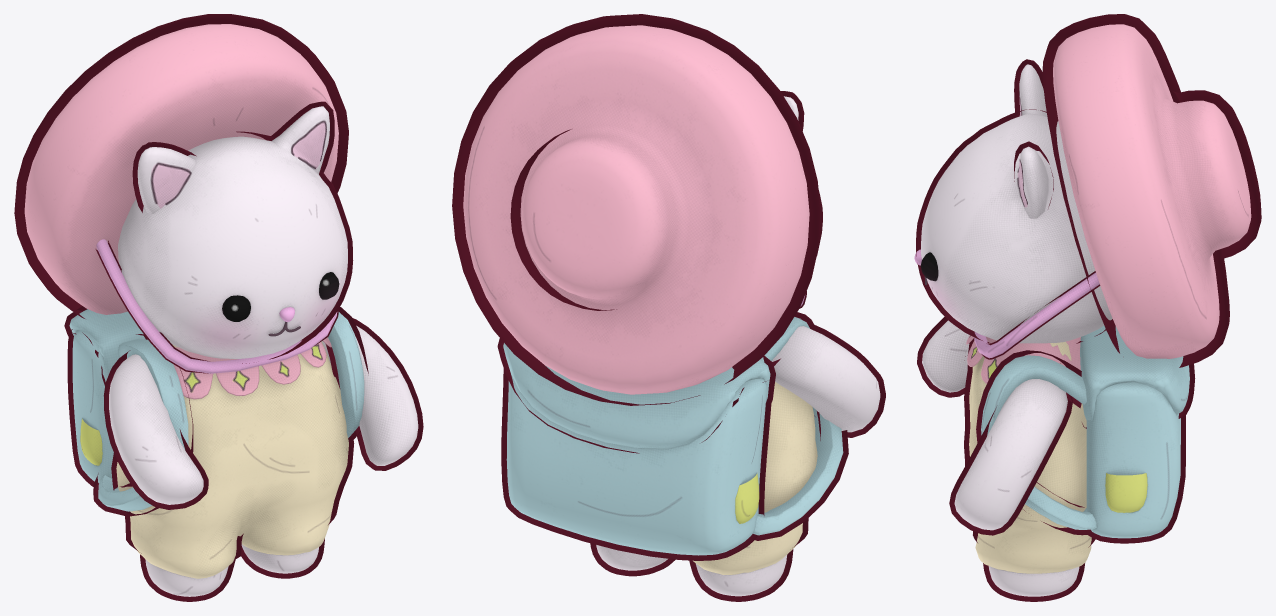
The model's file is sylvanian_persian_cat.glb.
3 views of the same model, side by side, from view 1: azimuth 30°, elevation 25°; view 2: azimuth 150°, elevation 25°; view 3: azimuth 270°, elevation 25° (orthographic). The views are drawn at different scales.
Visible parts, largest first — view 1: MSH_Ternurin, MSH_Outline, Object001_Mat_Outline_0; view 2: MSH_Ternurin, MSH_Outline; view 3: MSH_Ternurin, MSH_Outline, Object001_Mat_Outline_0.
Part boxes in pixels (<box>): MSH_Ternurin: <box>24,24,418,596</box>; MSH_Outline: <box>14,14,423,601</box>; Object001_Mat_Outline_0: <box>95,240,338,373</box>; MSH_Ternurin: <box>463,25,880,596</box>; MSH_Outline: <box>452,14,885,601</box>; MSH_Ternurin: <box>914,24,1251,596</box>; MSH_Outline: <box>916,14,1261,601</box>; Object001_Mat_Outline_0: <box>981,271,1100,359</box>.
Size of the model in its own units: 1.1 by 1.75 by 1.02.
2 materials, 1 textured.
